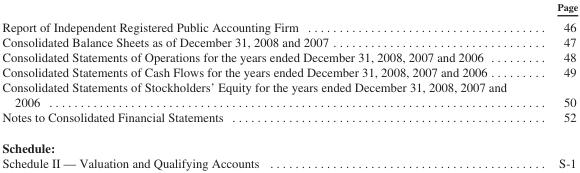table: (1, 0, 577, 169)
table column: (1, 0, 531, 169), (531, 0, 577, 169)
table column header: (1, 0, 577, 15)
table projected row header: (1, 132, 577, 155)
table row: (1, 79, 577, 109), (1, 109, 577, 132), (1, 132, 577, 155), (1, 15, 577, 33), (1, 48, 577, 64), (1, 0, 577, 15), (1, 33, 577, 48), (1, 64, 577, 79), (1, 155, 577, 169)
